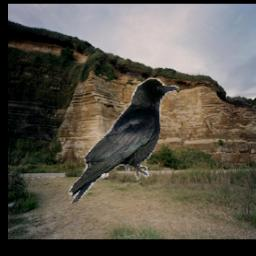Crow: (70, 78, 180, 204)
